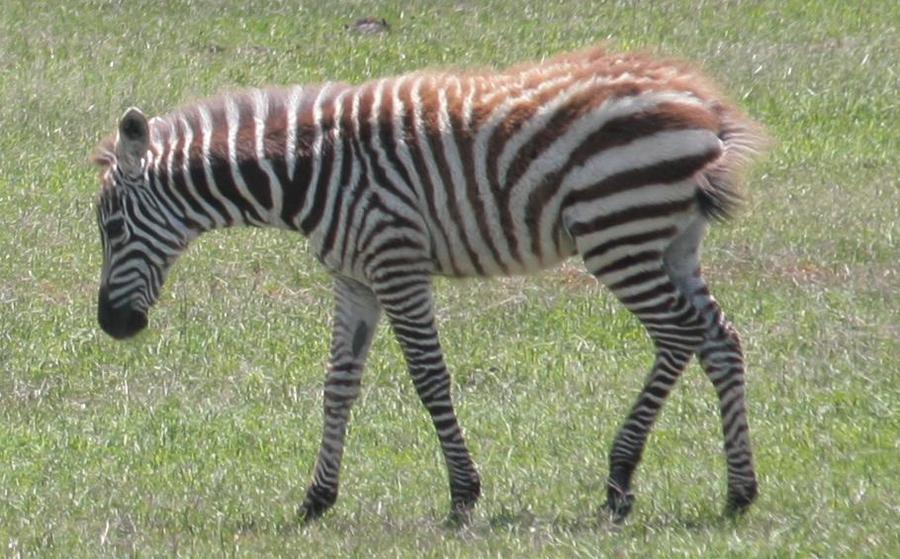zebra_plains: (209, 22, 776, 417)
